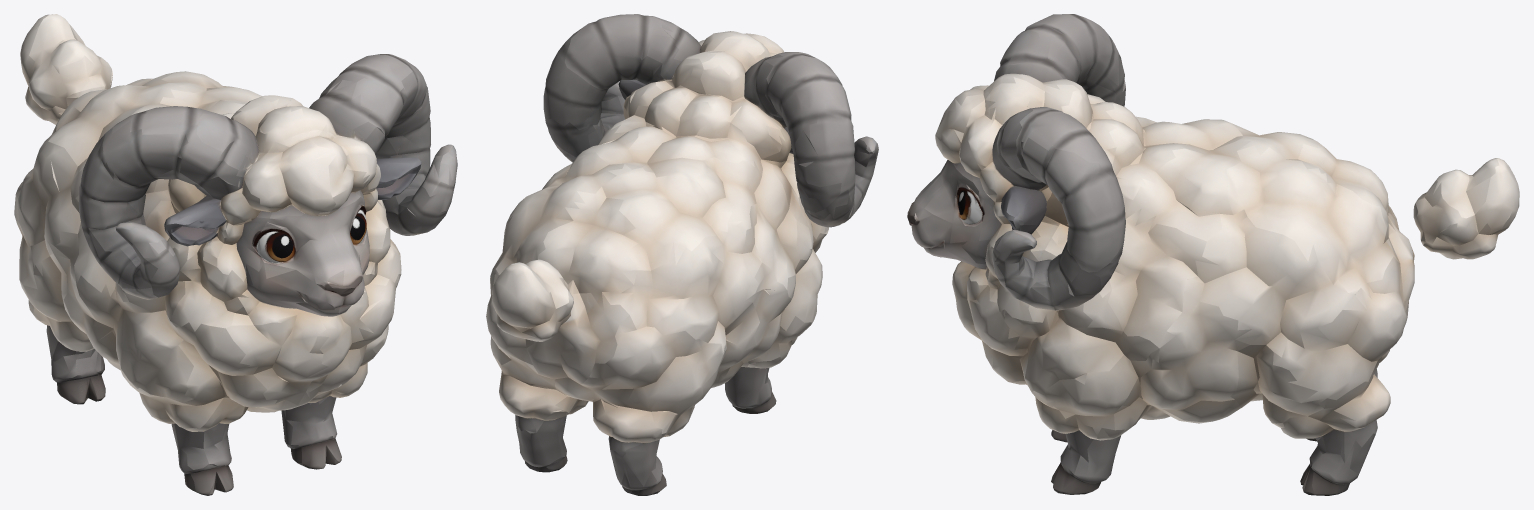
The picture shows the model from 3 angles, left to right: view 1: azimuth 30°, elevation 25°; view 2: azimuth 150°, elevation 25°; view 3: azimuth 270°, elevation 25°; orthographic projection. The views are drawn at different scales.
Size of the model in its own units: 1.23 by 1.34 by 1.9.
Materials: 1 (1 with a texture image).
